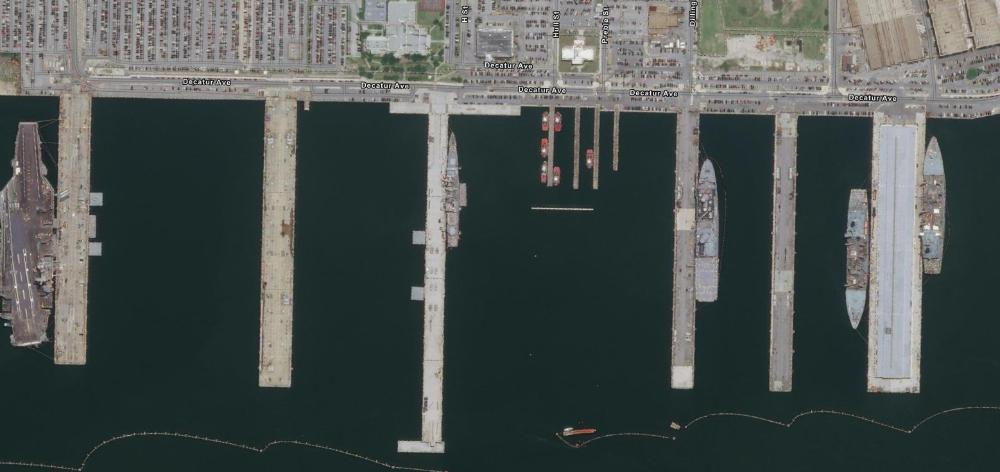cruiser: (445, 127, 465, 248)
supply: (694, 152, 727, 312)
tender: (843, 186, 873, 336), (924, 130, 946, 279)
